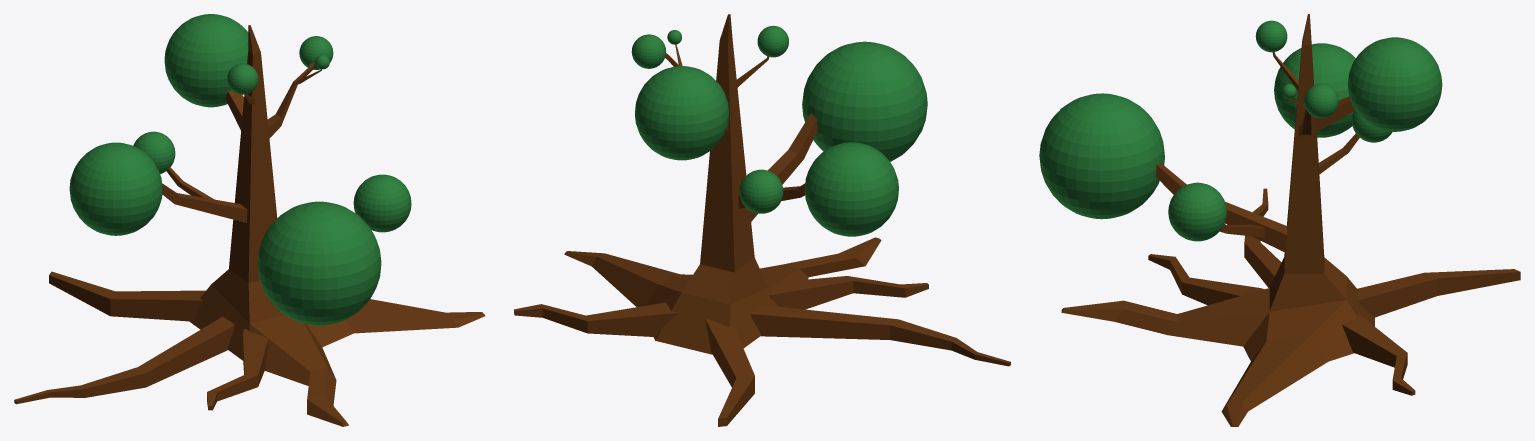
File: tree.fbx
3 views of the same model, side by side, from view 1: azimuth 30°, elevation 25°; view 2: azimuth 150°, elevation 25°; view 3: azimuth 270°, elevation 25° (orthographic).
Parts seen in each view (by area): view 1: tronc, Sphere.007, Sphere, Sphere.004, root.003, Sphere.006, root.002, branch, Sphere.005, Sphere.003, Sphere.001, branch.001; view 2: tronc, Sphere.007, Sphere, Sphere.004, root, root.002, root.003, Sphere.005, branch.007, Sphere.001, Sphere.003; view 3: tronc, Sphere.007, Sphere.004, root.003, Sphere, Sphere.006, root, root.002, branch.007, Sphere.001, Sphere.003, Sphere.005 (+2 smaller).
Part boxes in pixels (x1=…): tronc: x1=14, y1=25, x2=485, y2=426; Sphere.007: x1=257, y1=201, x2=381, y2=325; Sphere: x1=69, y1=142, x2=162, y2=235; Sphere.004: x1=164, y1=14, x2=248, y2=107; root.003: x1=49, y1=271, x2=205, y2=321; Sphere.006: x1=353, y1=174, x2=411, y2=232; root.002: x1=207, y1=329, x2=268, y2=410; branch: x1=162, y1=183, x2=247, y2=222; Sphere.005: x1=133, y1=131, x2=175, y2=173; Sphere.003: x1=227, y1=63, x2=258, y2=94; Sphere.001: x1=299, y1=36, x2=333, y2=69; branch.001: x1=267, y1=63, x2=314, y2=138; tronc: x1=564, y1=14, x2=1010, y2=366; Sphere.007: x1=802, y1=41, x2=927, y2=161; Sphere: x1=804, y1=142, x2=898, y2=236; Sphere.004: x1=635, y1=66, x2=729, y2=160; root: x1=514, y1=302, x2=678, y2=336; root.002: x1=770, y1=276, x2=928, y2=309; root.003: x1=705, y1=318, x2=754, y2=426; Sphere.005: x1=739, y1=169, x2=783, y2=213; branch.007: x1=750, y1=112, x2=817, y2=221; Sphere.001: x1=631, y1=34, x2=666, y2=68; Sphere.003: x1=757, y1=25, x2=788, y2=57; tronc: x1=1061, y1=14, x2=1374, y2=426; Sphere.007: x1=1039, y1=93, x2=1164, y2=219; Sphere.004: x1=1347, y1=37, x2=1442, y2=131; root.003: x1=1357, y1=269, x2=1520, y2=317; Sphere: x1=1274, y1=43, x2=1355, y2=137; Sphere.006: x1=1168, y1=182, x2=1226, y2=241; root: x1=1342, y1=315, x2=1415, y2=395; root.002: x1=1148, y1=254, x2=1264, y2=305; branch.007: x1=1155, y1=163, x2=1287, y2=252; Sphere.001: x1=1304, y1=84, x2=1338, y2=118; Sphere.003: x1=1255, y1=20, x2=1287, y2=52; Sphere.005: x1=1351, y1=110, x2=1392, y2=142.
Bounding box in the file's own units: 2393 × 1575 × 2171.
